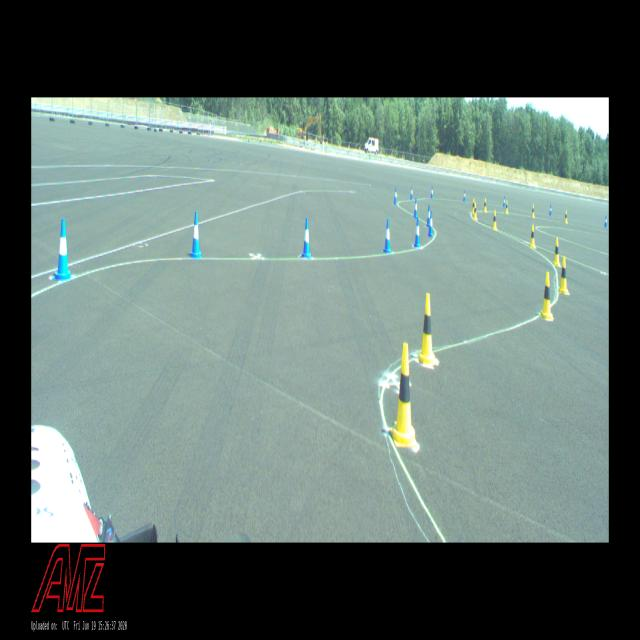blue_cone: (52, 218, 73, 280), (190, 212, 202, 258), (302, 218, 311, 258), (384, 219, 392, 253), (414, 218, 421, 247), (428, 211, 434, 237), (413, 198, 418, 218), (426, 204, 430, 227), (604, 215, 608, 228), (394, 187, 397, 204), (410, 187, 413, 200), (463, 190, 466, 201), (549, 204, 552, 215), (431, 186, 433, 198), (503, 196, 505, 207)
yellow_cone: (390, 344, 417, 446), (418, 294, 438, 365), (541, 272, 553, 319), (559, 257, 568, 293), (553, 238, 561, 266), (530, 225, 536, 248), (492, 210, 497, 230), (473, 203, 478, 220), (483, 198, 487, 212), (565, 210, 568, 223), (505, 200, 508, 213), (532, 205, 535, 217), (472, 198, 474, 214)
